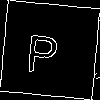P: (24, 25, 61, 74)
